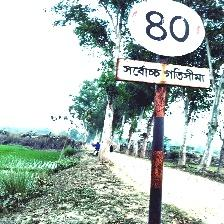Speed-limit: (117, 0, 211, 89)
